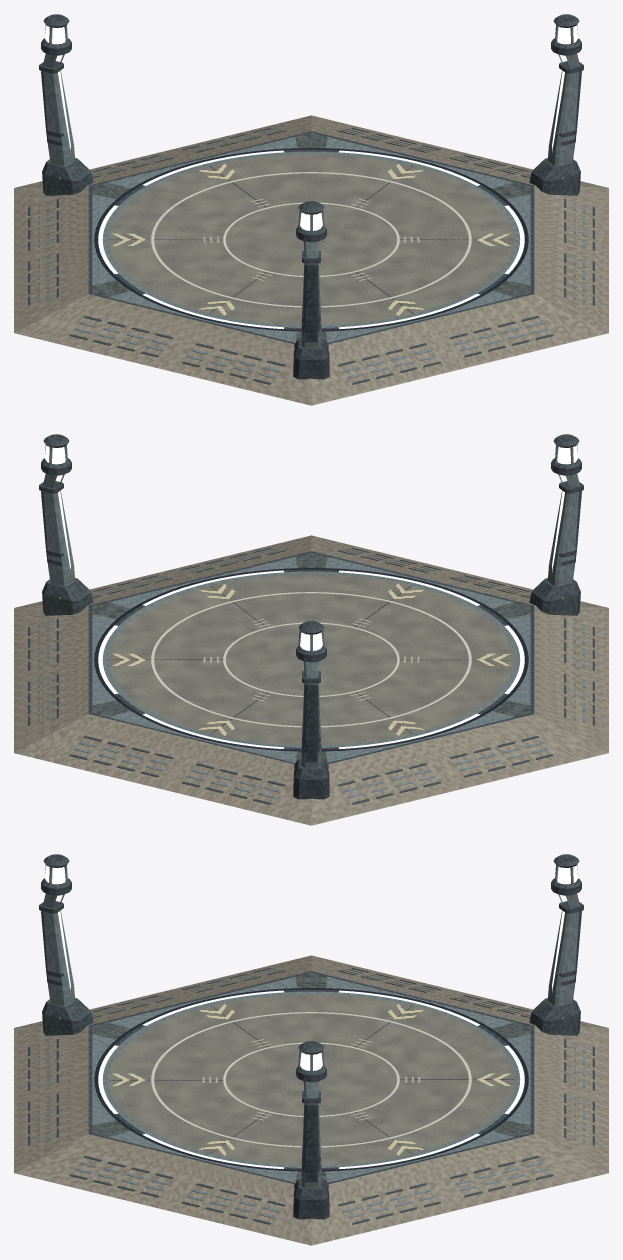
File: ap_salida.glb
The picture shows the model from 3 angles, top to bottom: view 1: azimuth 30°, elevation 25°; view 2: azimuth 150°, elevation 25°; view 3: azimuth 270°, elevation 25°; orthographic projection.
Parts seen in each view (by area): view 1: estructura; view 2: estructura; view 3: estructura.
Part boxes in pixels (<box>): estructura: <box>14,14,608,405</box>; estructura: <box>14,434,608,825</box>; estructura: <box>14,854,608,1245</box>.
Bounding box in the file's own units: 10.5 × 3.04 × 9.09.
Materials: 2 (1 with a texture image).
